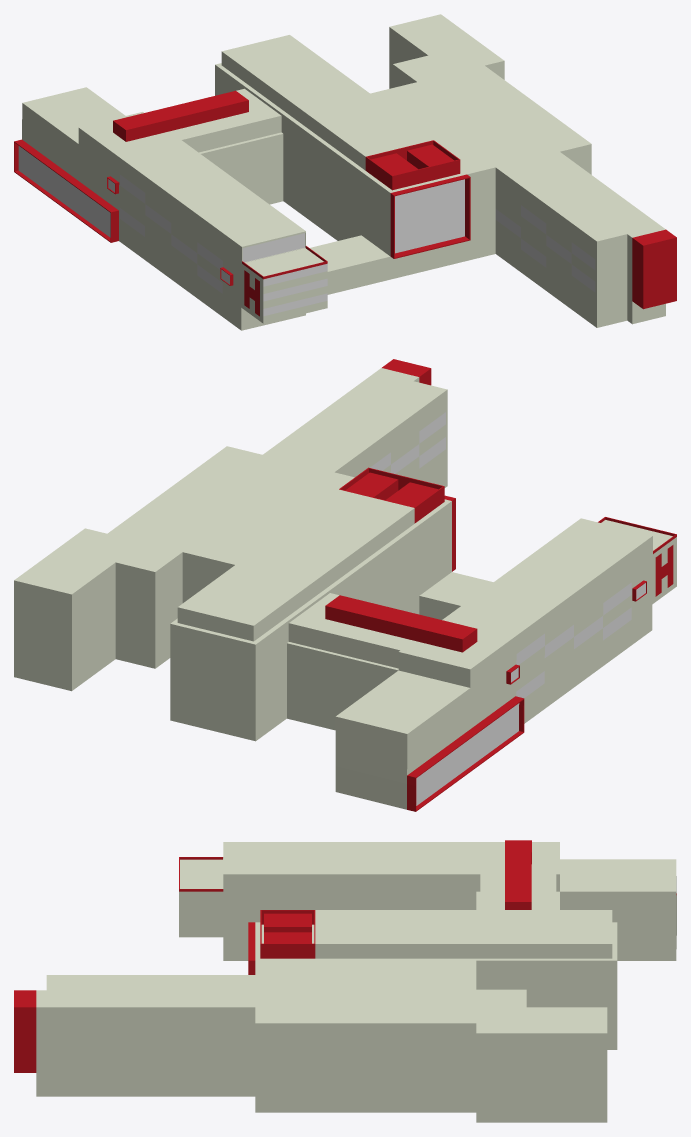
File: hospital.fbx
3 renders of one model, top to bottom at view 1: azimuth 30°, elevation 25°; view 2: azimuth 150°, elevation 25°; view 3: azimuth 270°, elevation 25°, orthographic. The views are drawn at different scales.
Parts seen in each view (by area): view 1: Cube; view 2: Cube; view 3: Cube.
Part boxes in pixels (x1=…): Cube: x1=14, y1=14, x2=676, y2=330; Cube: x1=14, y1=359, x2=676, y2=811; Cube: x1=14, y1=840, x2=676, y2=1122.
Size of the model in its own units: 1224 by 299 by 1733.
